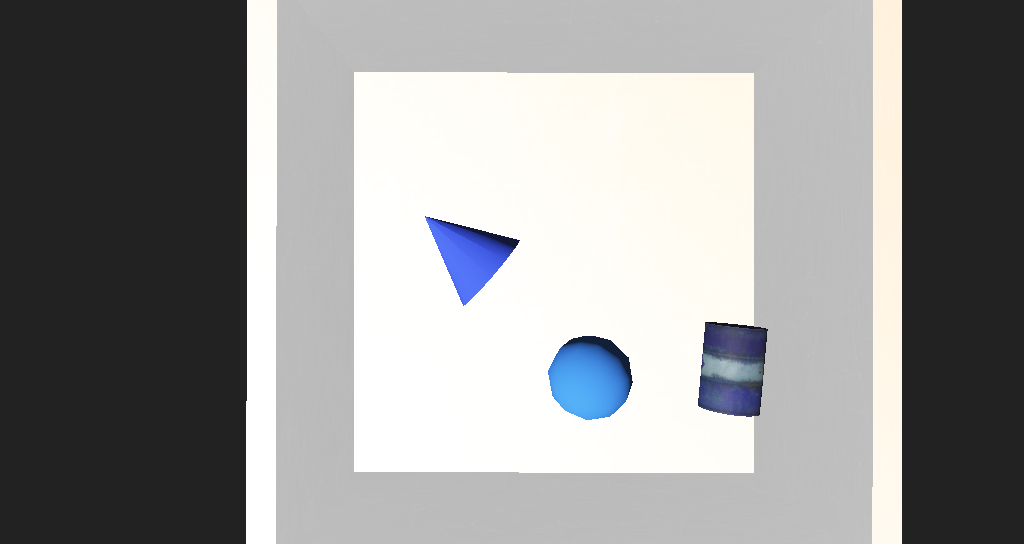cone: (610, 293, 670, 346)
cylinder: (374, 215, 488, 291)
sphere: (502, 303, 563, 346)
